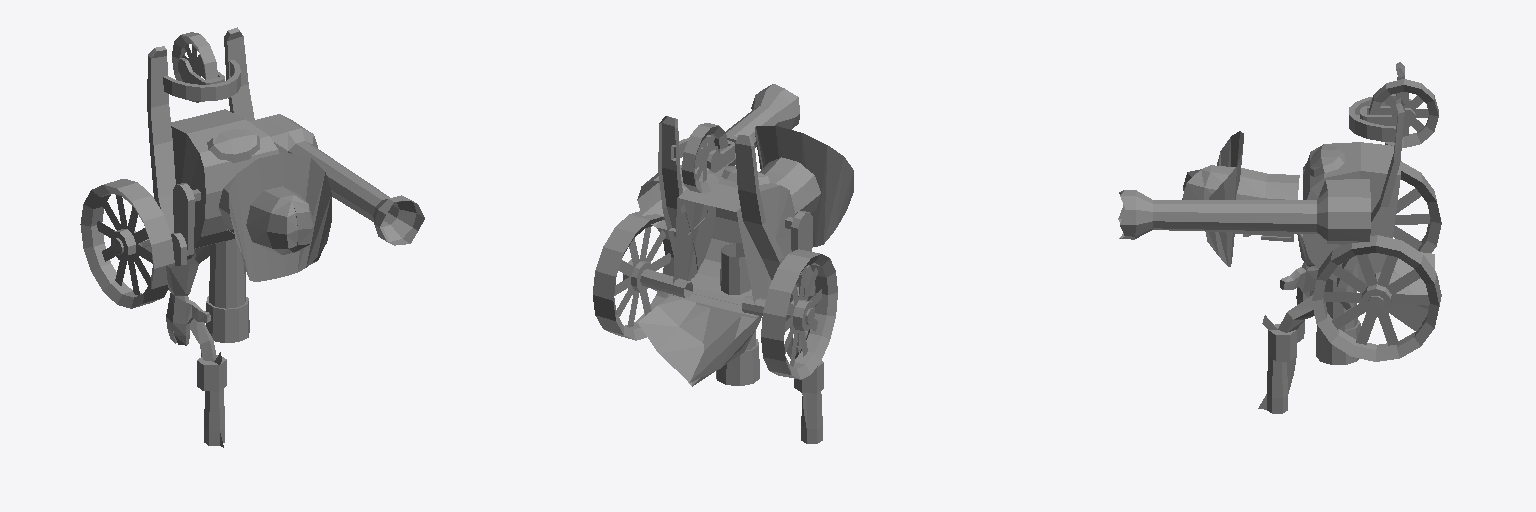
Rendered from steamgunman.obj.
3 views of the same model, side by side, from view 1: azimuth 30°, elevation 25°; view 2: azimuth 150°, elevation 25°; view 3: azimuth 270°, elevation 25° (orthographic).
Parts seen in each view (by area): view 1: brim, gunman, stack, wheel_04, head, barrel, running_board03, pistol, glove, running_board02, Tube01, door (+3 smaller); view 2: gunman, cowcatcher, wheel_04, brim, wheel_01, stack, running_board03, barrel, running_board02, head, pistol, wheel_05 (+3 smaller); view 3: stack, wheel_01, gunman, head, pistol, brim, wheel_05, running_board02, barrel, wheel_04, glove, Tube01 (+9 smaller).
Part boxes in pixels (left/top/right/bottom): brim: left=228, top=152, right=331, bottom=281; gunman: left=171, top=109, right=278, bottom=248; stack: left=249, top=114, right=424, bottom=245; wheel_04: left=80, top=179, right=174, bottom=308; head: left=219, top=177, right=313, bottom=254; barrel: left=206, top=238, right=249, bottom=342; running_board03: left=147, top=46, right=175, bottom=233; pistol: left=190, top=319, right=226, bottom=447; glove: left=166, top=257, right=210, bottom=345; running_board02: left=224, top=27, right=254, bottom=120; Tube01: left=163, top=60, right=240, bottom=101; door: left=207, top=129, right=259, bottom=162; gunman: left=673, top=170, right=794, bottom=316; cowcatcher: left=638, top=293, right=761, bottom=386; wheel_04: left=761, top=249, right=837, bottom=379; brim: left=755, top=126, right=853, bottom=246; wheel_01: left=593, top=211, right=673, bottom=340; stack: left=637, top=84, right=799, bottom=234; running_board03: left=735, top=135, right=797, bottom=302; barrel: left=716, top=243, right=759, bottom=385; running_board02: left=658, top=116, right=697, bottom=277; head: left=759, top=157, right=820, bottom=214; pistol: left=786, top=337, right=823, bottom=443; wheel_05: left=681, top=123, right=727, bottom=192; stack: left=1118, top=179, right=1370, bottom=244; wheel_01: left=1312, top=235, right=1441, bottom=361; gunman: left=1303, top=142, right=1400, bottom=285; head: left=1182, top=165, right=1299, bottom=241; pistol: left=1258, top=295, right=1314, bottom=413; brim: left=1205, top=131, right=1243, bottom=266; wheel_05: left=1369, top=79, right=1438, bottom=147; running_board02: left=1337, top=98, right=1404, bottom=309; barrel: left=1316, top=278, right=1360, bottom=364; wheel_04: left=1401, top=161, right=1441, bottom=252; glove: left=1280, top=234, right=1317, bottom=304; Tube01: left=1349, top=94, right=1395, bottom=142.
Size of the model in its own units: 127 by 222 by 186.